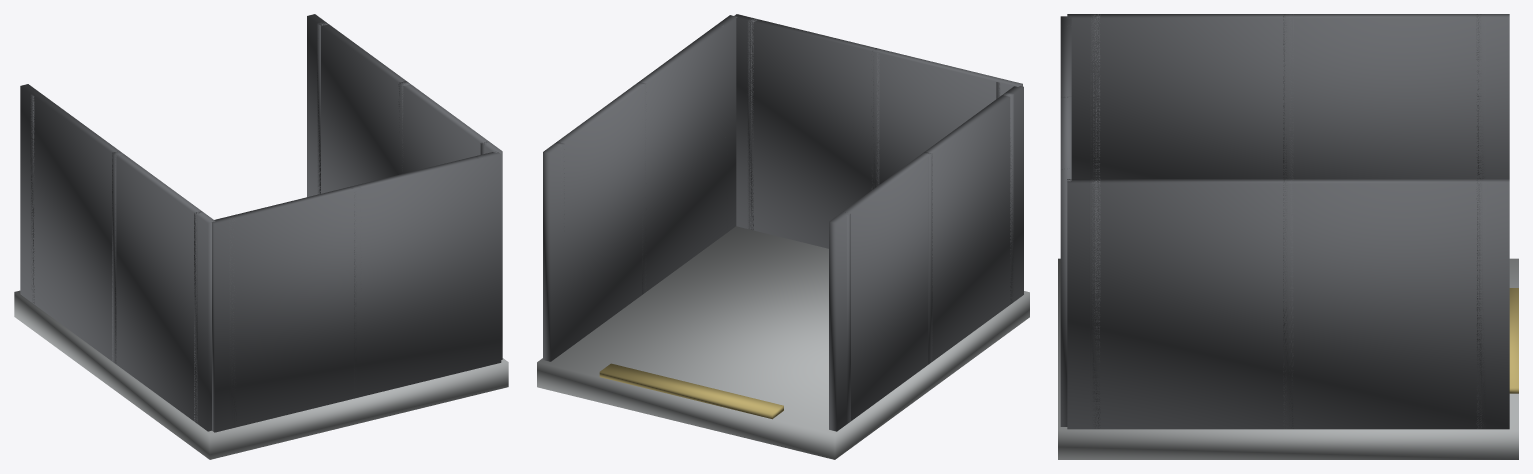
File: floor_w150_d170_three.glb
The picture shows the model from 3 angles, left to right: view 1: azimuth 30°, elevation 25°; view 2: azimuth 150°, elevation 25°; view 3: azimuth 270°, elevation 25°; orthographic projection. The views are drawn at different scales.
Visible parts, largest first — view 1: world; view 2: world; view 3: world.
Boxes of the visible parts, x1=… form: world: x1=14, y1=14, x2=508, y2=459; world: x1=537, y1=14, x2=1029, y2=459; world: x1=1058, y1=14, x2=1518, y2=459.
Size of the model in its own units: 1.5 by 1.12 by 1.7.
